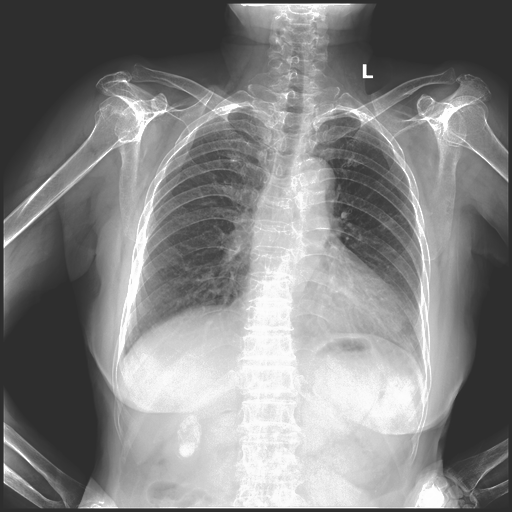Consolidation: (292, 158, 335, 201)
Nodule/Mass: (236, 281, 411, 341)
Pneumothorax: (194, 121, 239, 163)
